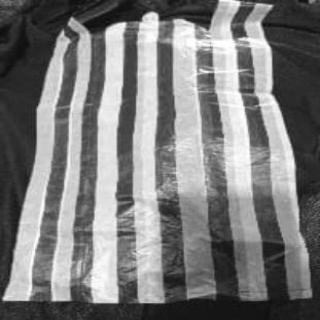objects: (0, 0, 319, 304)
